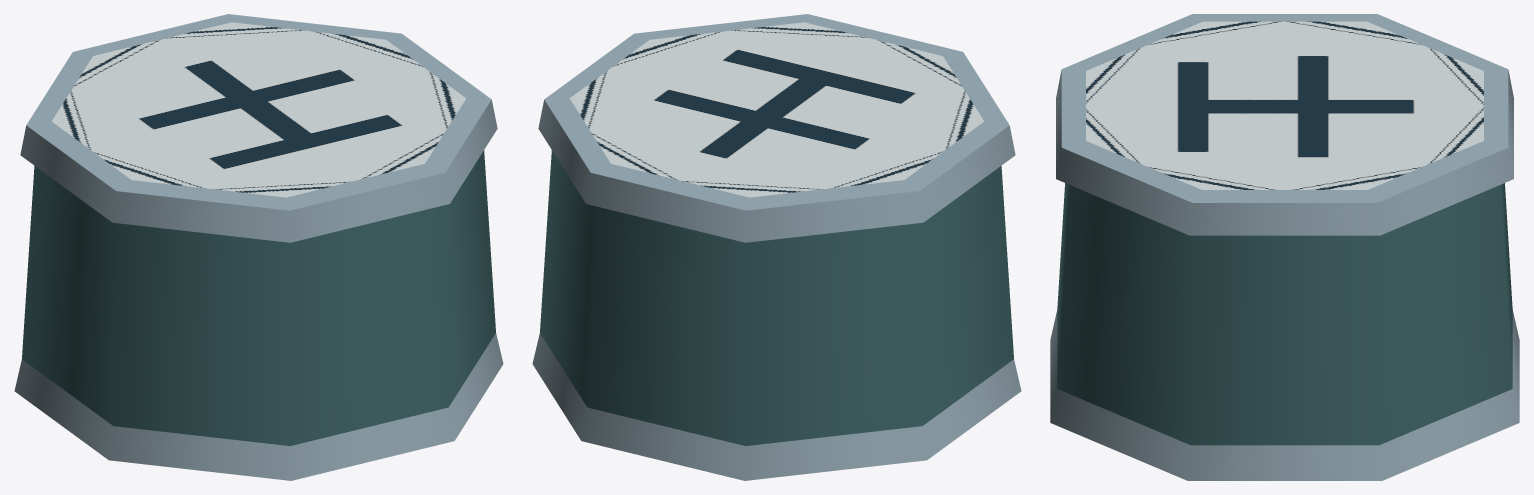
File: Blue2.glb
The picture shows the model from 3 angles, left to right: view 1: azimuth 30°, elevation 25°; view 2: azimuth 150°, elevation 25°; view 3: azimuth 270°, elevation 25°; orthographic projection. The views are drawn at different scales.
Parts seen in each view (by area): view 1: Blue2; view 2: Blue2; view 3: Blue2.
Boxes of the visible parts, x1,y1,x2,y2 form: Blue2: [14, 14, 503, 480]; Blue2: [532, 14, 1021, 480]; Blue2: [1050, 14, 1519, 480].
Bounding box in the file's own units: 0.7668 × 0.497 × 0.7668.
Materials: 3 (1 with a texture image).
